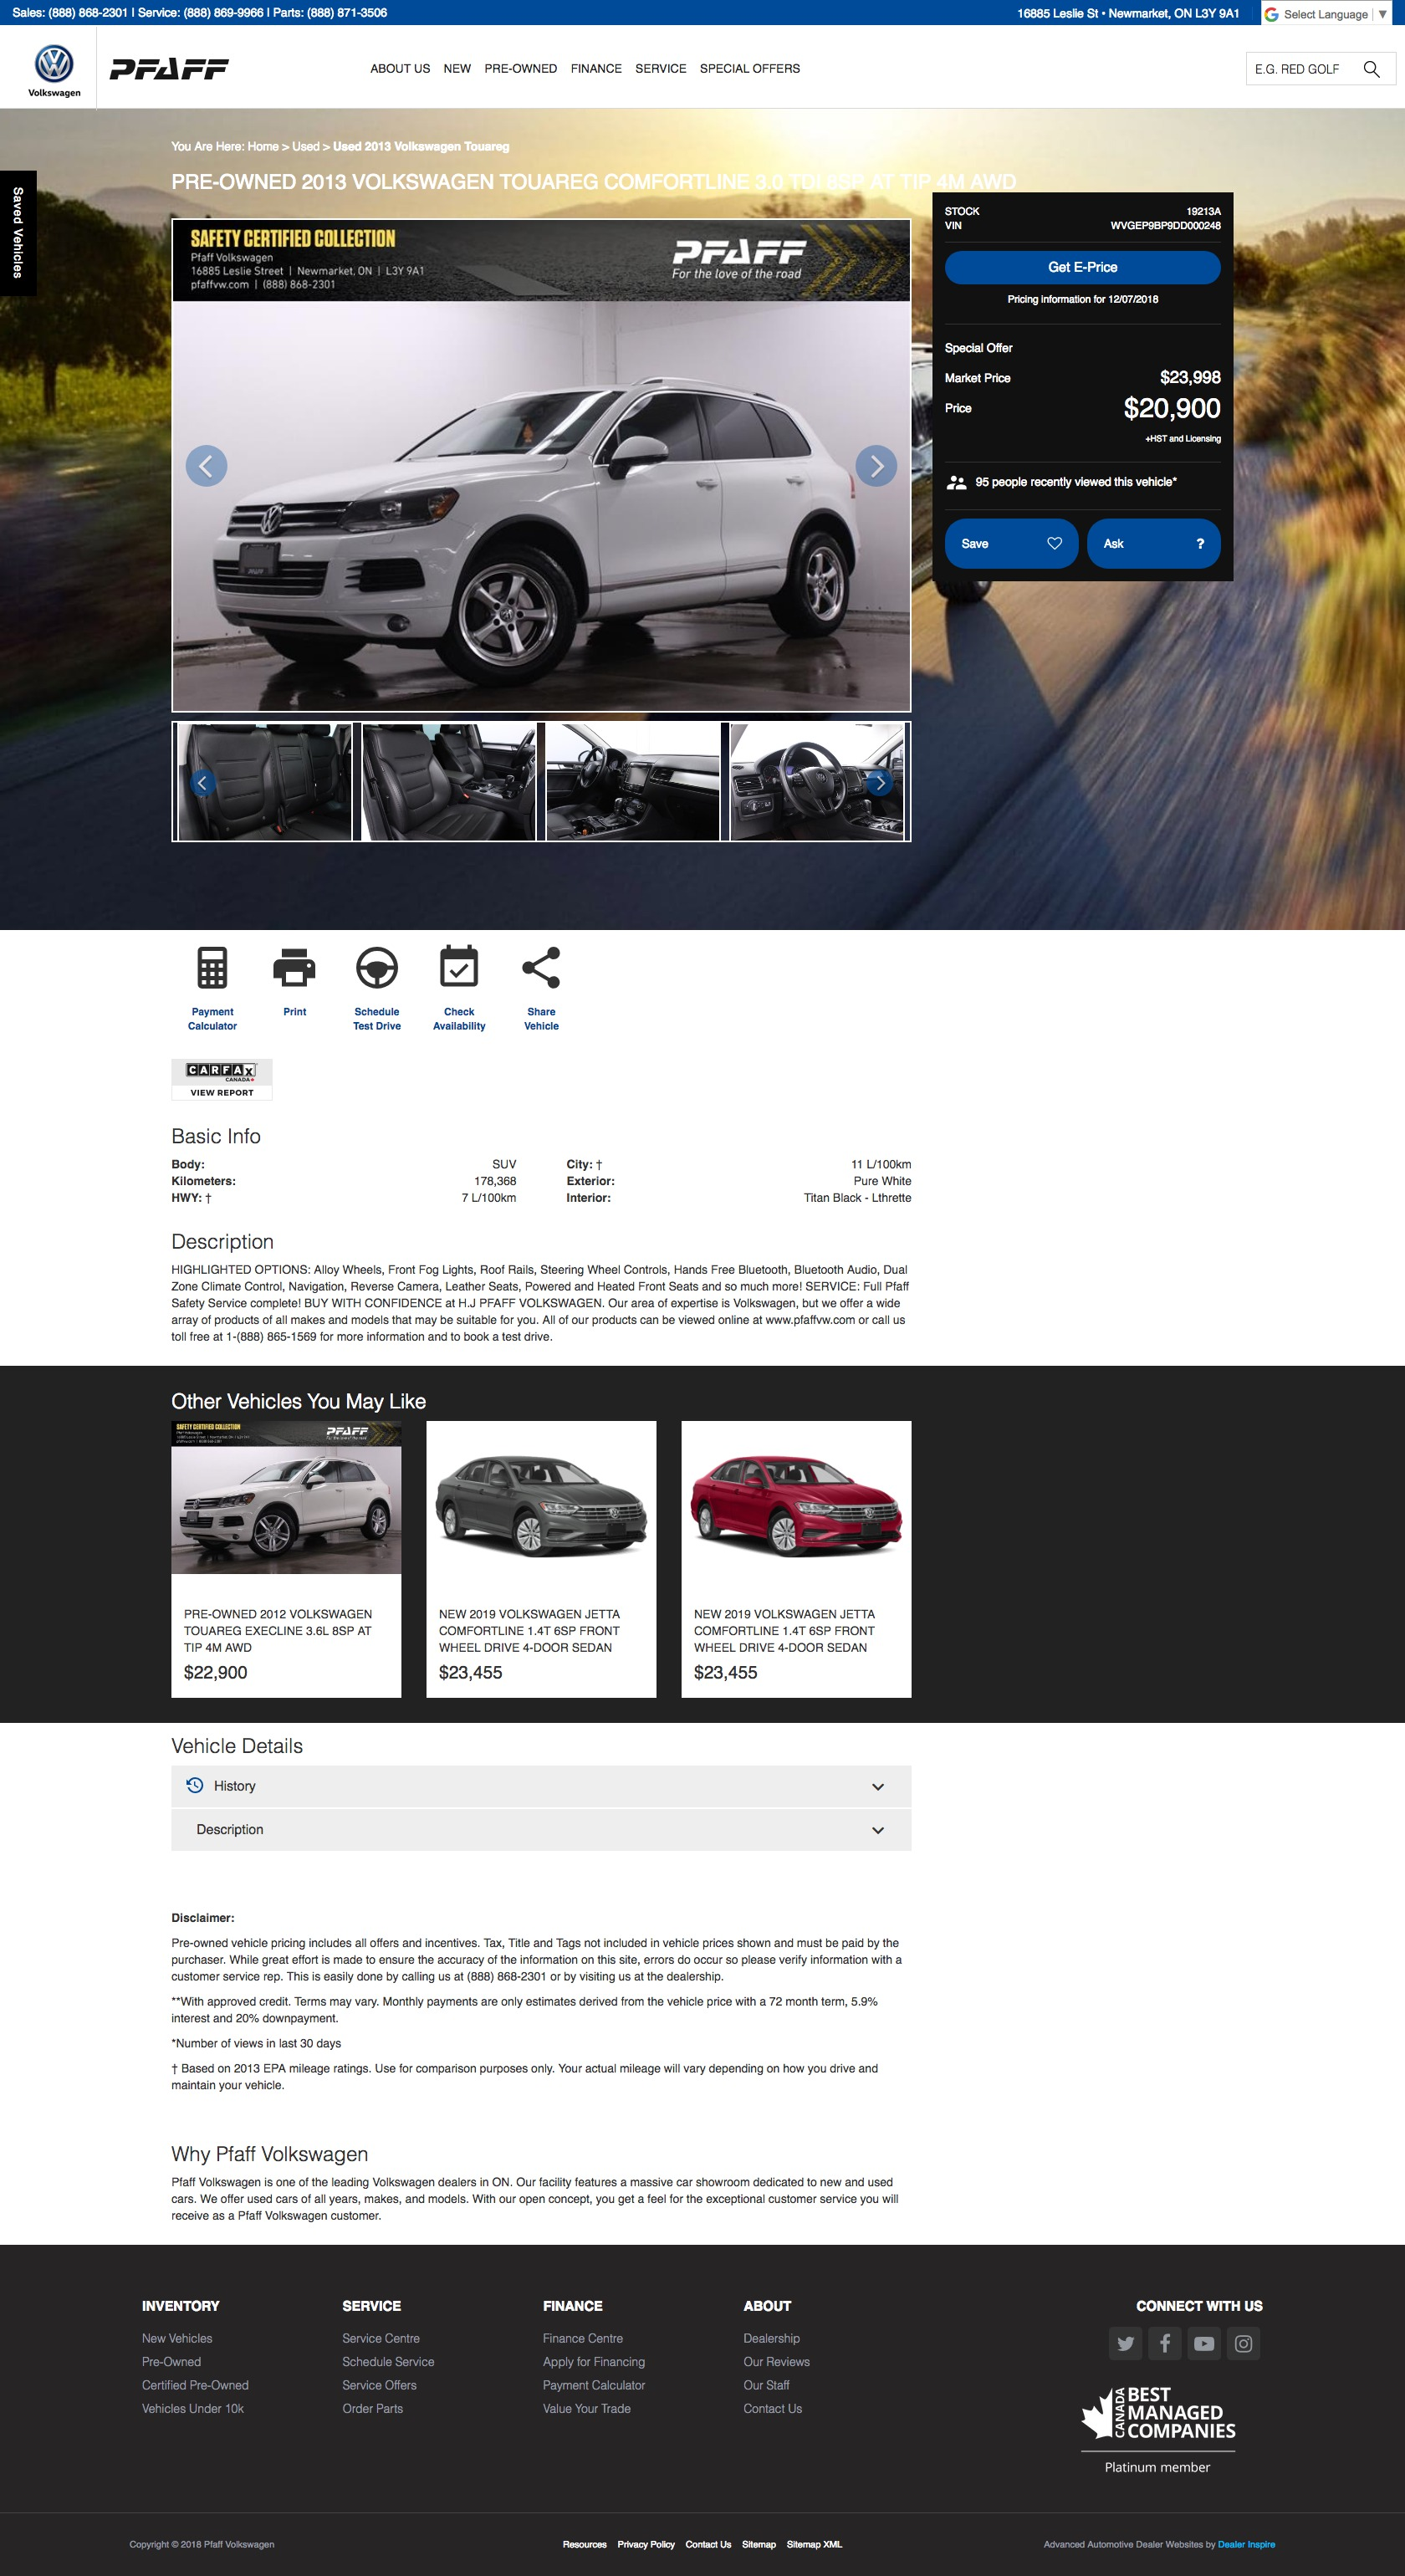car: (877, 777, 886, 791)
